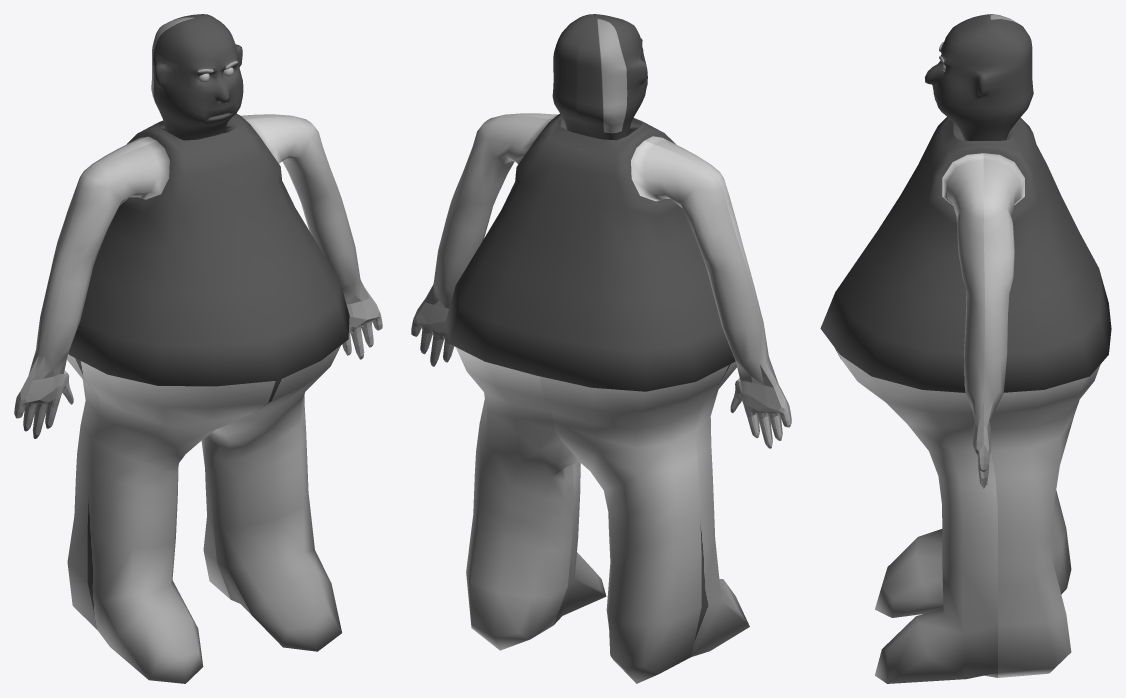
The model's file is Character.fbx.
The picture shows the model from 3 angles, left to right: view 1: azimuth 30°, elevation 25°; view 2: azimuth 150°, elevation 25°; view 3: azimuth 270°, elevation 25°; orthographic projection. The views are drawn at different scales.
Visible parts, largest first — view 1: The Scuff; view 2: The Scuff; view 3: The Scuff.
Boxes of the visible parts, bbox=[...] form: The Scuff: bbox=[14, 14, 382, 683]; The Scuff: bbox=[411, 14, 791, 683]; The Scuff: bbox=[820, 14, 1111, 683].
Size of the model in its own units: 1175 by 1870 by 789.
